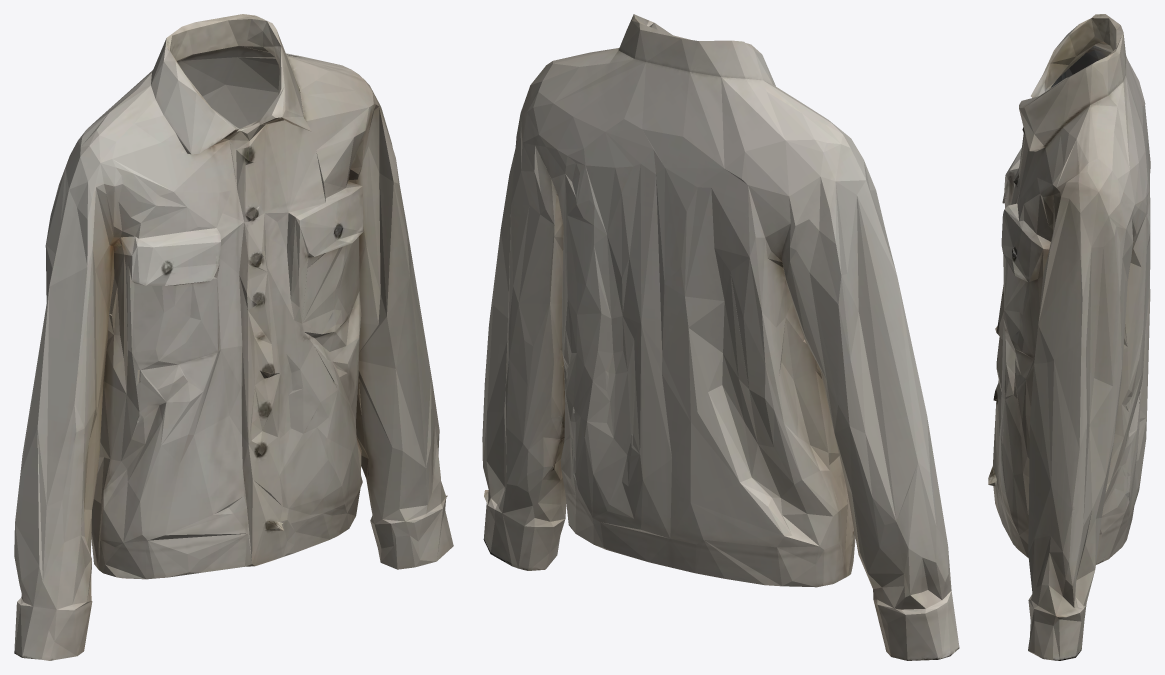
3 views of the same model, side by side, from view 1: azimuth 30°, elevation 25°; view 2: azimuth 150°, elevation 25°; view 3: azimuth 270°, elevation 25° (orthographic). The views are drawn at different scales.
Parts seen in each view (by area): view 1: geometry_0; view 2: geometry_0; view 3: geometry_0.
Part boxes in pixels (bbox=[...]): geometry_0: bbox=[14, 14, 453, 660]; geometry_0: bbox=[482, 14, 959, 660]; geometry_0: bbox=[988, 14, 1150, 660].
Size of the model in its own units: 0.8137 by 0.9988 by 0.2731.
Materials: 1 (1 with a texture image).
